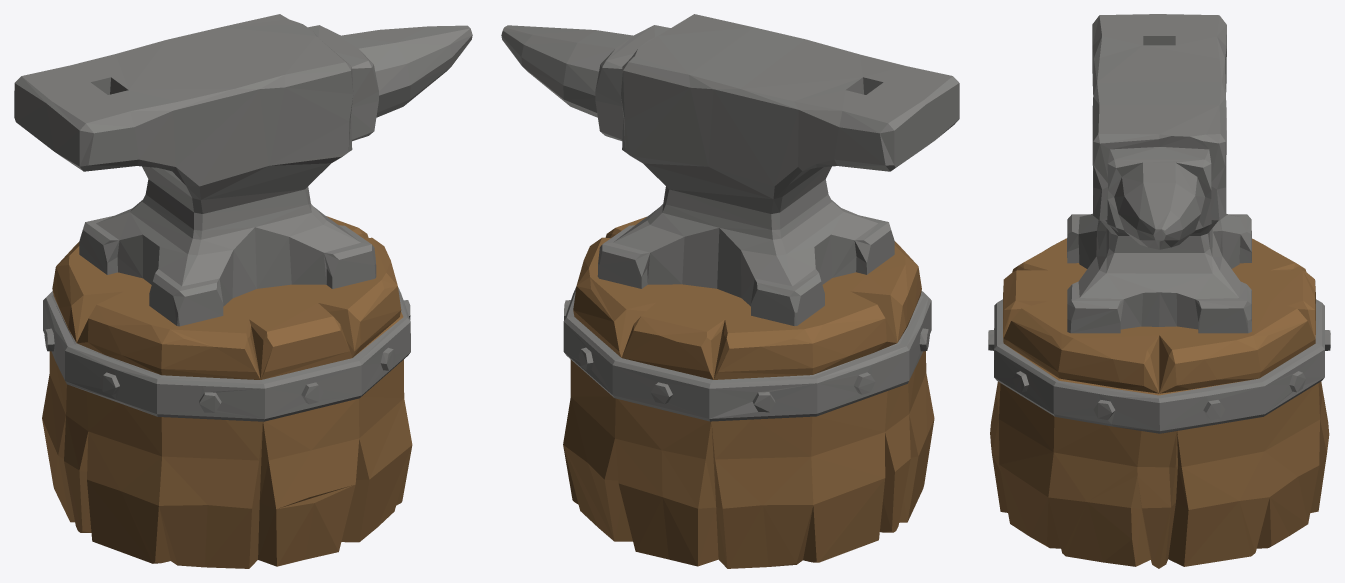
Rendered from BlacksmithAnvil02.fbx.
3 views of the same model, side by side, from view 1: azimuth 30°, elevation 25°; view 2: azimuth 150°, elevation 25°; view 3: azimuth 270°, elevation 25° (orthographic). The views are drawn at different scales.
Parts seen in each view (by area): view 1: BlacksmithAnvil02; view 2: BlacksmithAnvil02; view 3: BlacksmithAnvil02.
Part boxes in pixels (x1,y1,x2,y2): BlacksmithAnvil02: (14, 14, 472, 568); BlacksmithAnvil02: (501, 14, 959, 568); BlacksmithAnvil02: (988, 14, 1330, 568).
Bounding box in the file's own units: 0.8468 × 0.641 × 0.8406.
